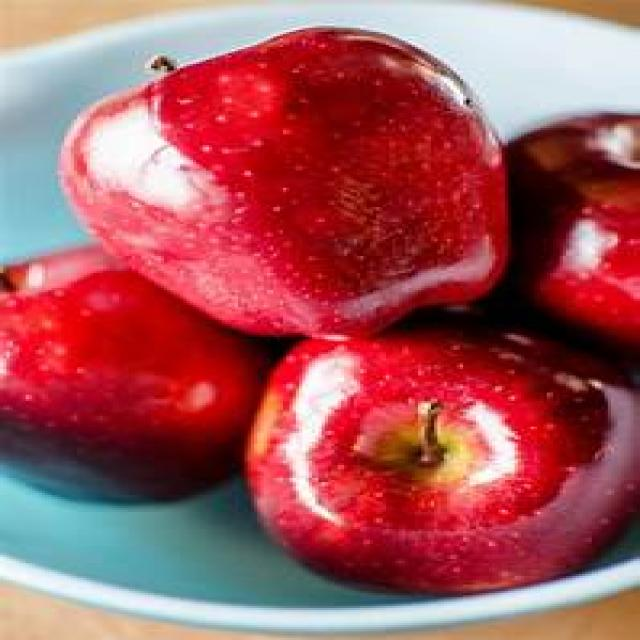apple: (59, 23, 515, 340), (246, 334, 640, 597)
